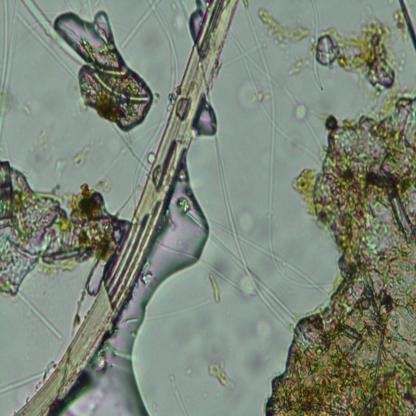Air bubble: (62, 179, 208, 416), (198, 107, 223, 138)
Anthropogenic: (15, 0, 238, 416)
Background material: (261, 92, 416, 416), (0, 150, 122, 304), (56, 9, 155, 141), (327, 12, 405, 97), (195, 339, 243, 408), (33, 129, 94, 178), (259, 6, 309, 50), (389, 1, 416, 45), (284, 91, 314, 129)
Glass filter fibre: (245, 5, 332, 290), (212, 132, 290, 332), (226, 27, 321, 164), (131, 1, 179, 194), (206, 233, 298, 326), (18, 10, 78, 82), (23, 0, 83, 62), (0, 0, 20, 130), (16, 290, 62, 340), (197, 257, 255, 293), (120, 0, 160, 49), (141, 296, 209, 320), (309, 0, 324, 88), (0, 369, 45, 394), (175, 390, 188, 416)
